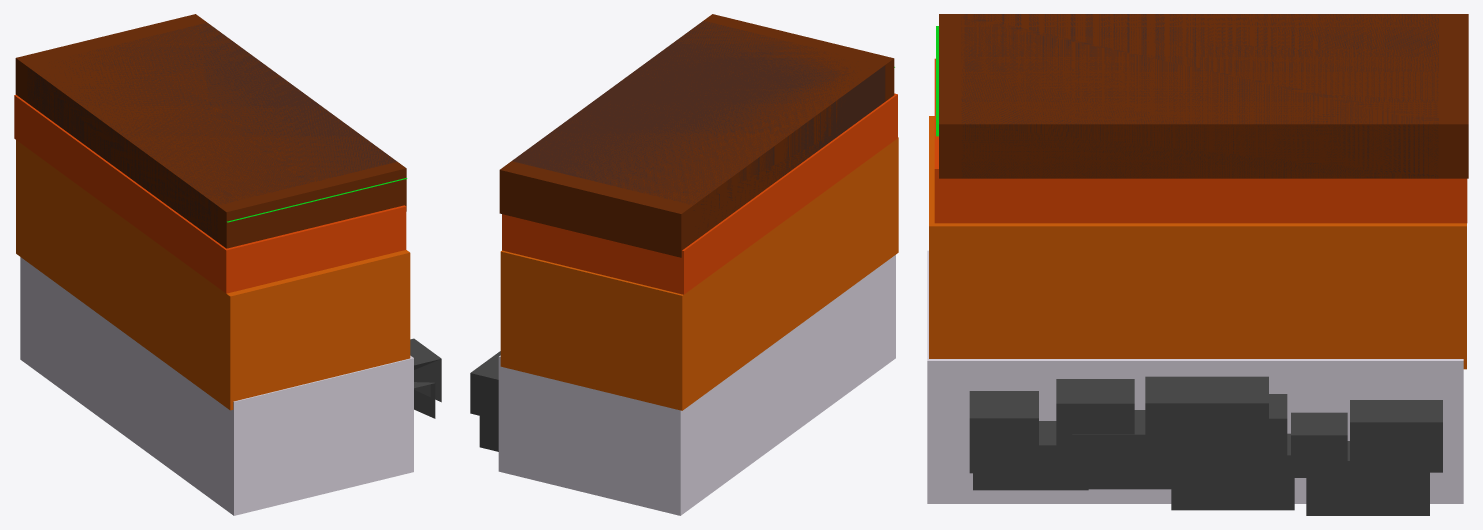
The model's file is layersofsoil.gltf.
The picture shows the model from 3 angles, left to right: view 1: azimuth 30°, elevation 25°; view 2: azimuth 150°, elevation 25°; view 3: azimuth 270°, elevation 25°; orthographic projection. The views are drawn at different scales.
Visible parts, largest first — view 1: Cube, Cube.001, Cube.002, Cube.003, Cube.004, rock.006; view 2: Cube.001, Cube.002, Cube.003, Cube, Cube.004, rock.006; view 3: Cube, Cube.001, rock.006, Cube.003, Cube.002, Cube.004.
Boxes of the visible parts, left/top/right/bottom form: Cube: left=15, top=14, right=406, bottom=248; Cube.001: left=16, top=140, right=410, bottom=410; Cube.002: left=20, top=257, right=413, bottom=515; Cube.003: left=27, top=23, right=397, bottom=241; Cube.004: left=14, top=95, right=406, bottom=293; rock.006: left=410, top=338, right=441, bottom=418; Cube.001: left=500, top=137, right=898, bottom=410; Cube.002: left=498, top=255, right=895, bottom=515; Cube.003: left=512, top=21, right=885, bottom=232; Cube: left=499, top=14, right=894, bottom=257; Cube.004: left=502, top=93, right=897, bottom=294; rock.006: left=470, top=351, right=500, bottom=451; Cube: left=939, top=14, right=1468, bottom=178; Cube.001: left=929, top=116, right=1466, bottom=369; rock.006: left=969, top=376, right=1442, bottom=515; Cube.003: left=961, top=14, right=1438, bottom=178; Cube.002: left=927, top=250, right=1463, bottom=503; Cube.004: left=934, top=58, right=1467, bottom=223.
Bounding box in the file's own units: 2.55 × 3.2 × 4.15.
